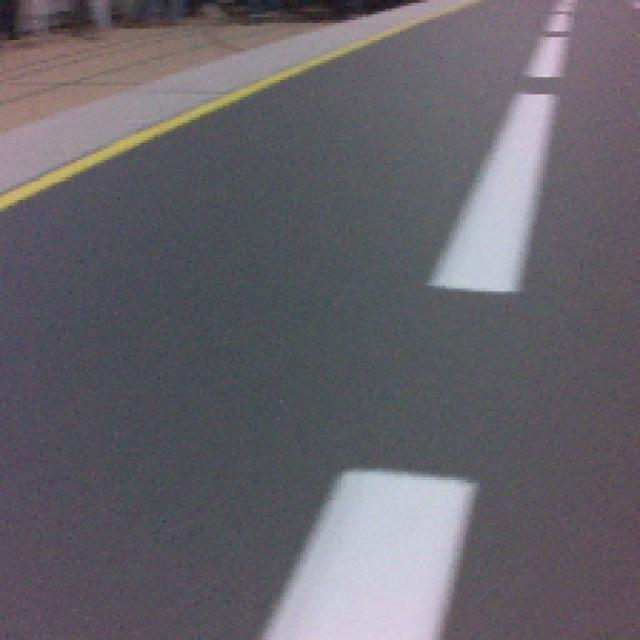Guard rail: (262, 471, 473, 640)
